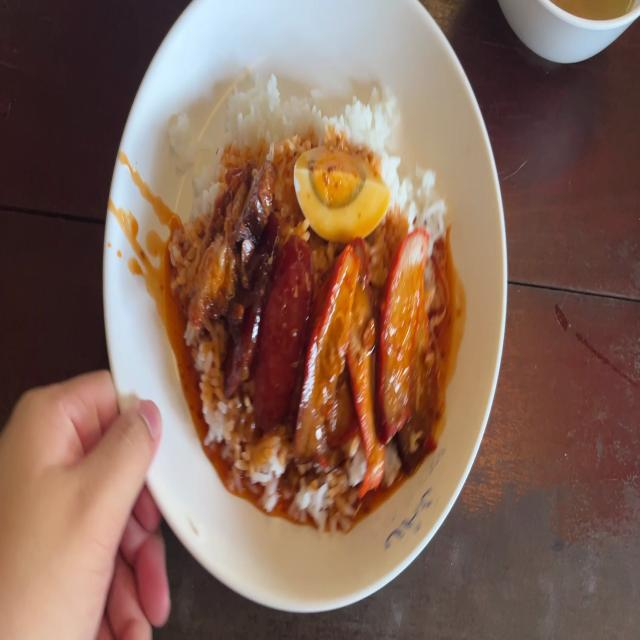01boiled_egg: (297, 146, 387, 234)
01chainese_sausage: (234, 238, 309, 395)
01crispy_pork: (194, 164, 267, 308)
01red_pork: (316, 239, 426, 446)
01red_pork_and_crispy_pork: (188, 94, 456, 495)
01rice: (226, 84, 400, 150)
